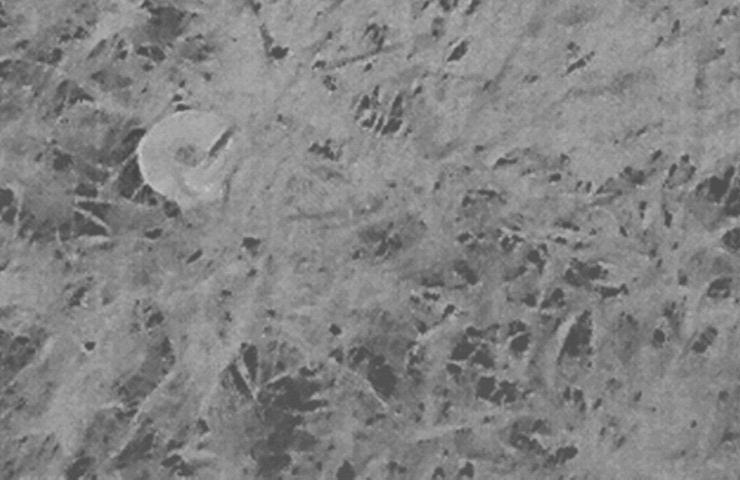landmines: (135, 100, 251, 216)
